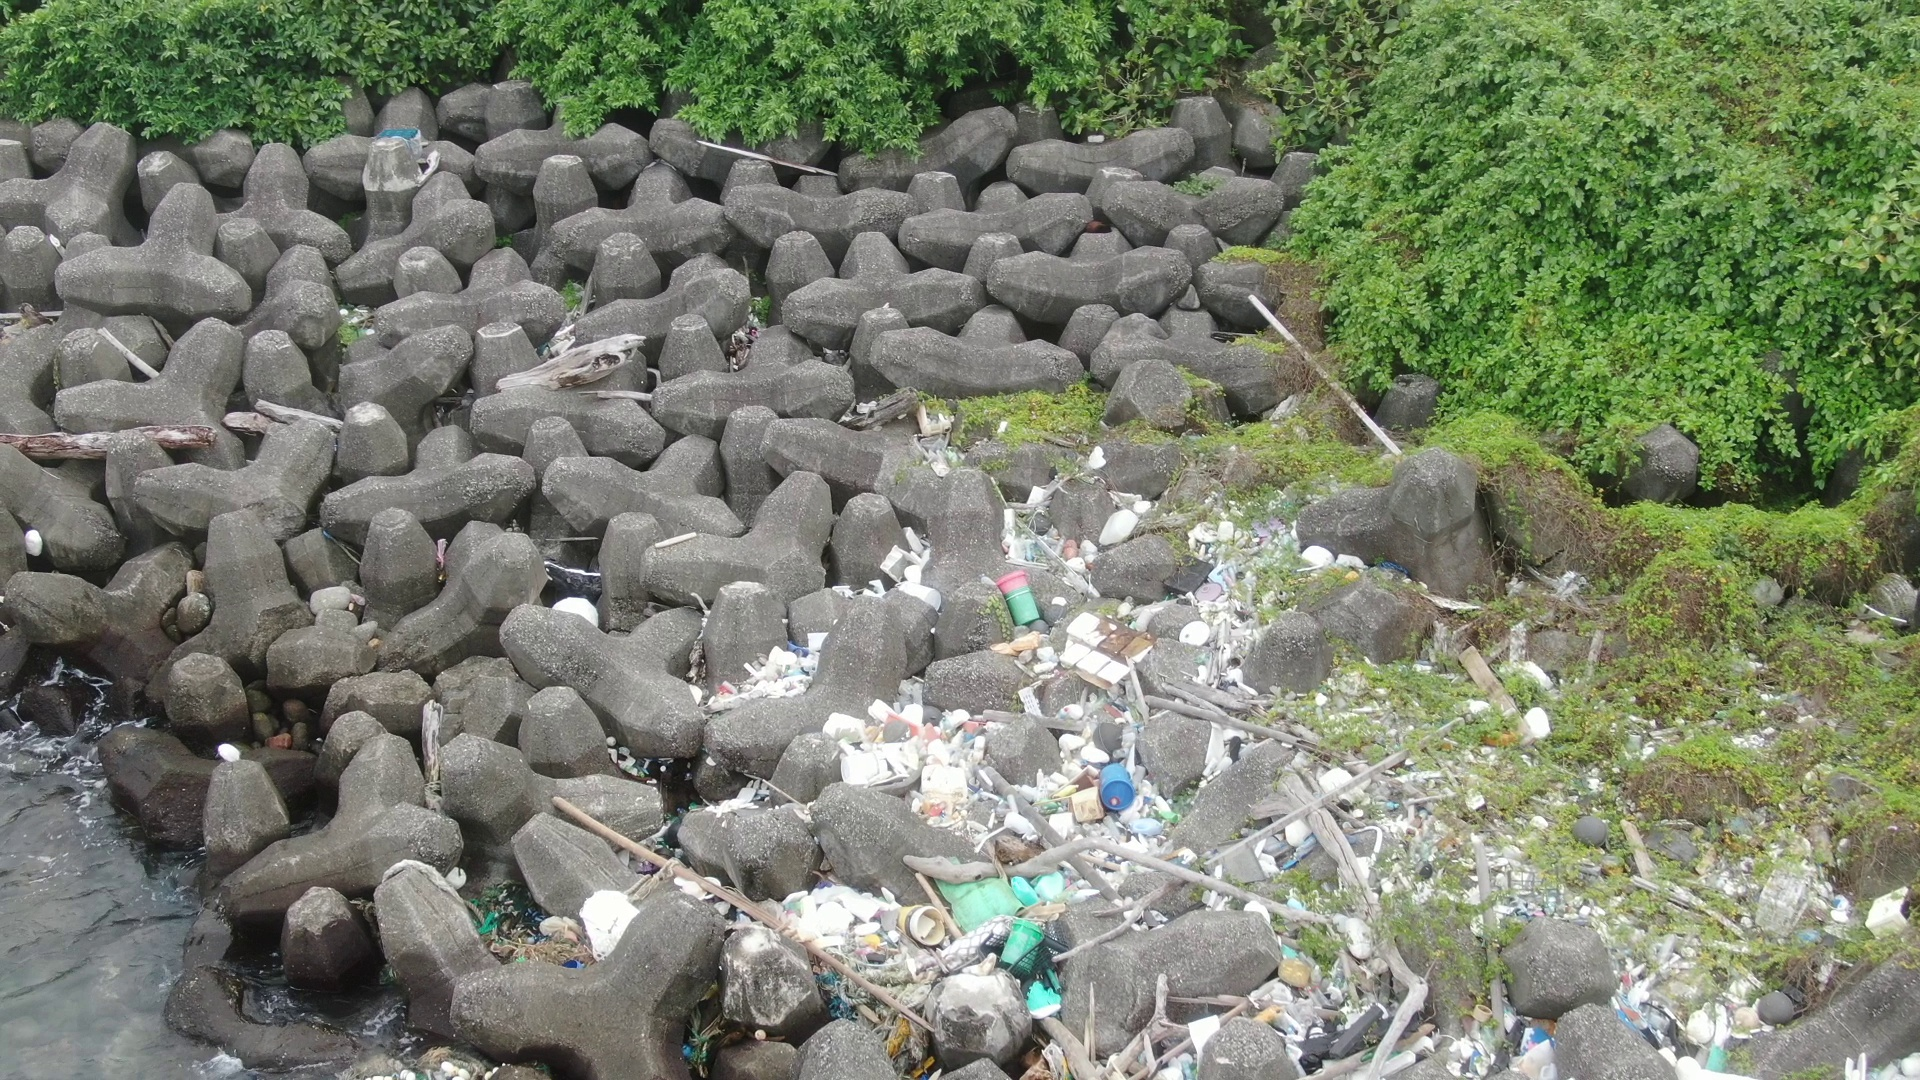garbage: (692, 444, 1589, 1069), (1615, 927, 1774, 1079), (473, 861, 655, 972), (1837, 876, 1920, 943), (367, 119, 434, 152)
